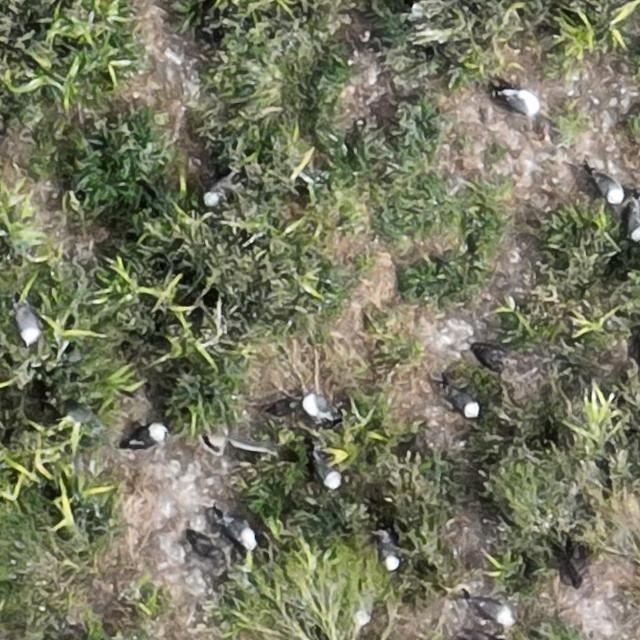umineko: (224, 517, 257, 546), (16, 305, 40, 343), (476, 601, 514, 624), (504, 90, 538, 114), (596, 177, 625, 205), (452, 391, 481, 417), (130, 425, 164, 447), (315, 455, 338, 487), (379, 535, 399, 570), (302, 395, 328, 420), (354, 595, 373, 628), (206, 180, 230, 204), (628, 204, 638, 242)
